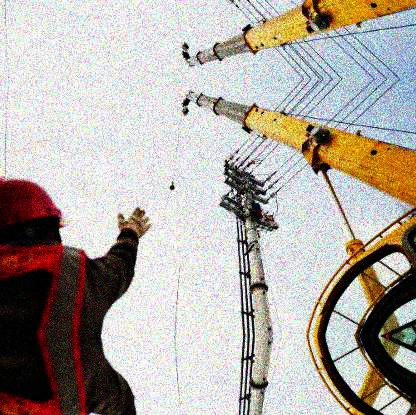helmet: (1, 177, 72, 250)
